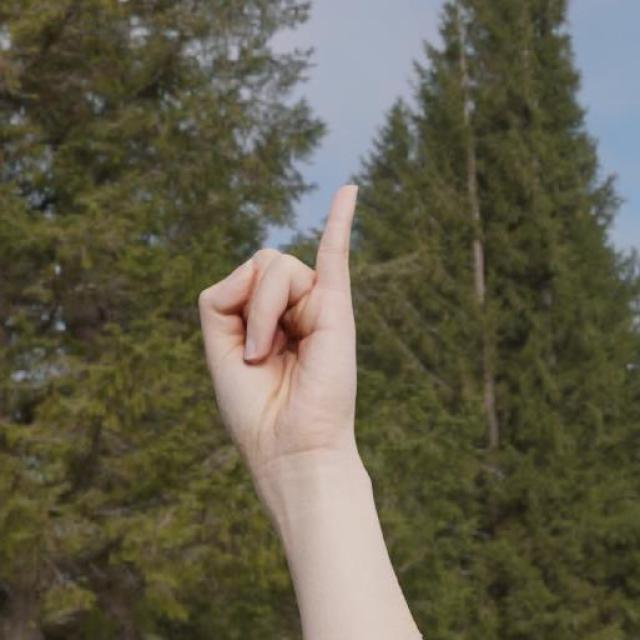I: (196, 178, 372, 486)
